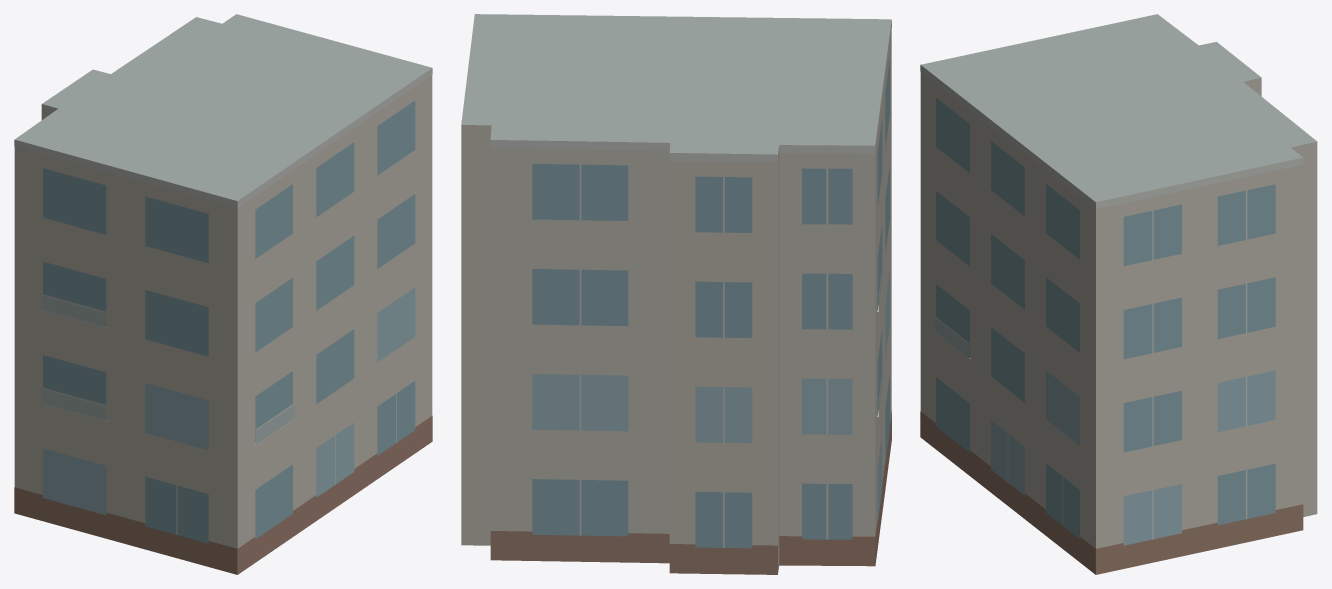
The model's file is survey-upis-32841018.glb.
3 views of the same model, side by side, from view 1: azimuth 30°, elevation 25°; view 2: azimuth 150°, elevation 25°; view 3: azimuth 270°, elevation 25° (orthographic). The views are drawn at different scales.
Parts seen in each view (by area): view 1: survey-upis-32841018.tmp; view 2: survey-upis-32841018.tmp; view 3: survey-upis-32841018.tmp.
Boxes of the visible parts, box(x1,y1,x2,y2) form: survey-upis-32841018.tmp: box(14, 14, 432, 574); survey-upis-32841018.tmp: box(461, 14, 891, 574); survey-upis-32841018.tmp: box(920, 14, 1317, 574).
Size of the model in its own units: 14.04 by 12.95 by 12.51.
